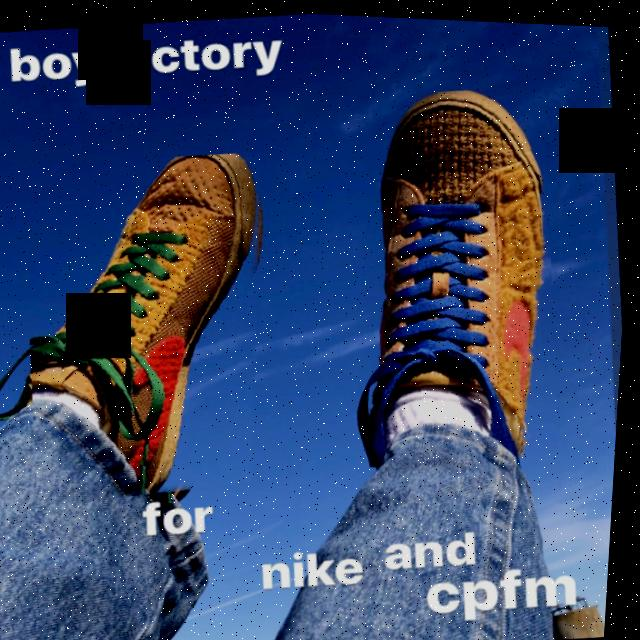shoe: (9, 141, 300, 515), (353, 74, 582, 456)
